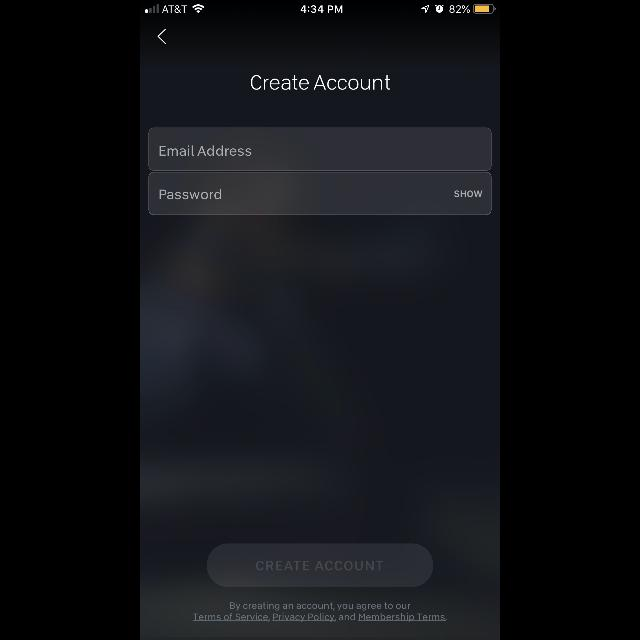icon: (158, 30, 166, 44)
input: (148, 172, 492, 215), (148, 128, 492, 170)
text: (193, 602, 447, 622), (252, 76, 391, 90), (160, 146, 252, 156), (160, 188, 222, 200), (453, 190, 482, 198)
textbutton: (207, 543, 433, 587)
uppertaskbar: (140, 0, 500, 14)
